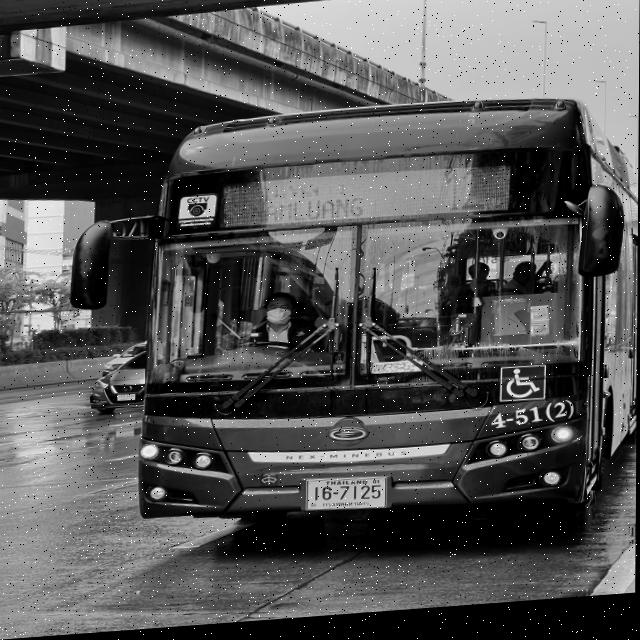Bus-Line-Number: (437, 164, 518, 232)
Destination-Sign-Normal: (216, 175, 373, 233)
TSB-Bus: (70, 98, 639, 550)
